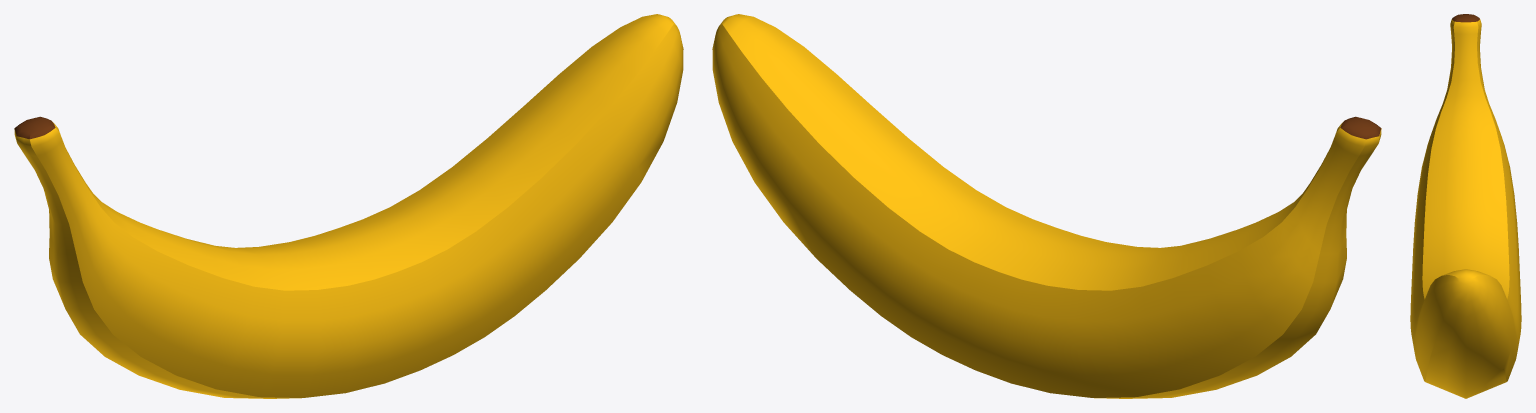
Rendered from banana.fbx.
3 views of the same model, side by side, from view 1: azimuth 30°, elevation 25°; view 2: azimuth 150°, elevation 25°; view 3: azimuth 270°, elevation 25° (orthographic). The views are drawn at different scales.
Visible parts, largest first — view 1: #banana; view 2: #banana; view 3: #banana.
Part boxes in pixels (x1,y1,x2,y2): #banana: [14, 14, 683, 398]; #banana: [712, 14, 1381, 398]; #banana: [1410, 14, 1521, 398].
Bounding box in the file's own units: 213 × 105 × 42.63.
